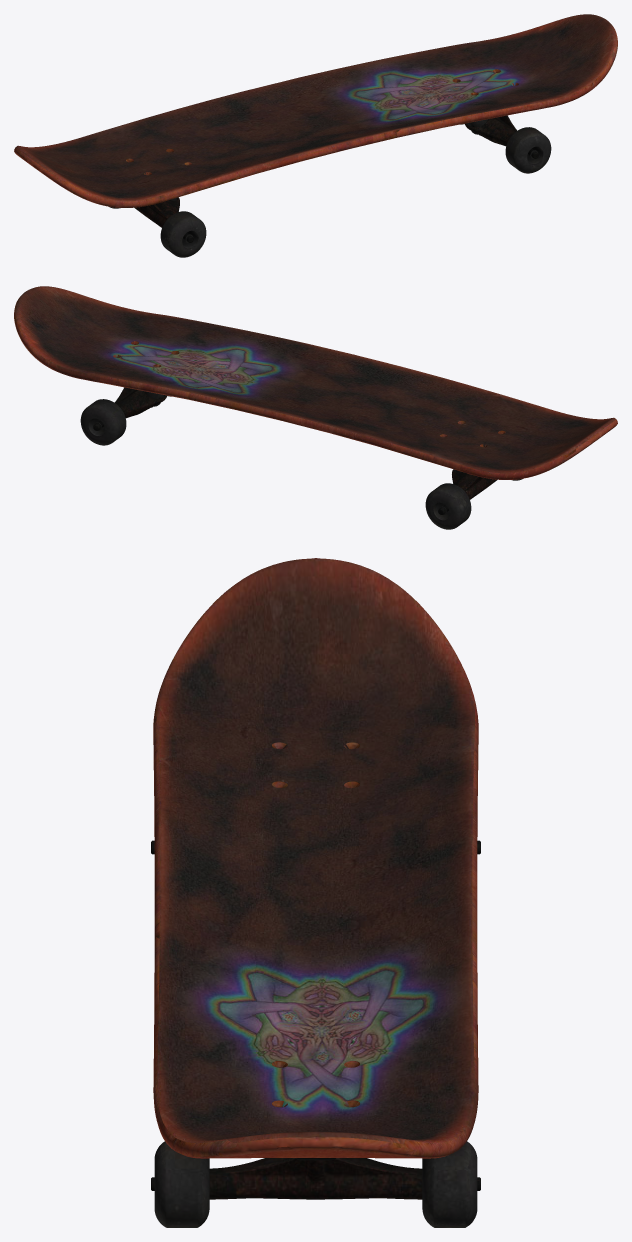
Rendered from skate.glb.
3 renders of one model, top to bottom at view 1: azimuth 30°, elevation 25°; view 2: azimuth 150°, elevation 25°; view 3: azimuth 270°, elevation 25°, orthographic. The views are drawn at different scales.
Parts seen in each view (by area): view 1: Object_3; view 2: Object_3; view 3: Object_3.
Part boxes in pixels (x1=…): Object_3: x1=14, y1=14, x2=617, y2=257; Object_3: x1=14, y1=286, x2=617, y2=529; Object_3: x1=151, y1=558, x2=480, y2=1227.
Bounding box in the file's own units: 30.88 × 5.32 × 7.56.
1 material, 1 textured.
